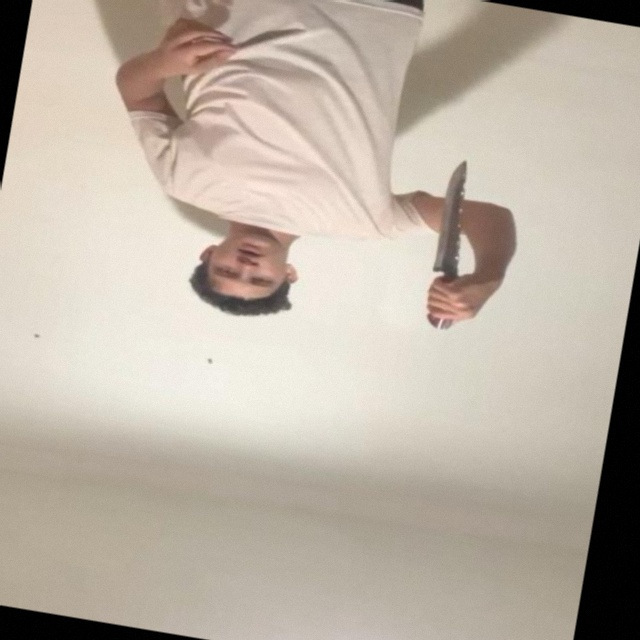Sharp-Object: (428, 156, 476, 276)
